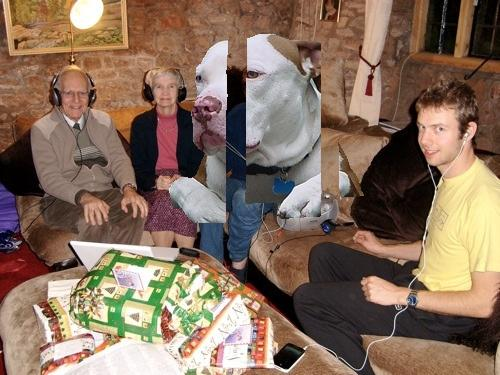tampered: (170, 35, 364, 223)
